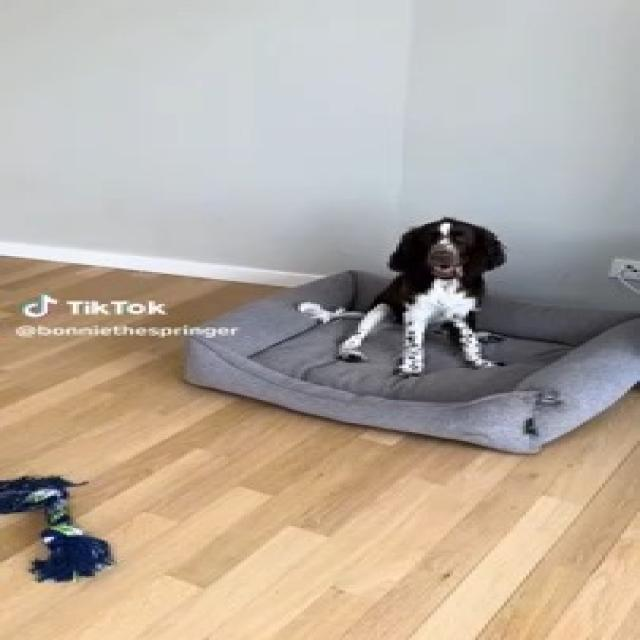dogs: (295, 221, 540, 373)
